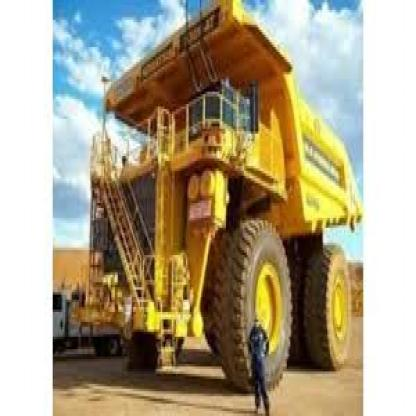dump_truck: (72, 2, 354, 392)
